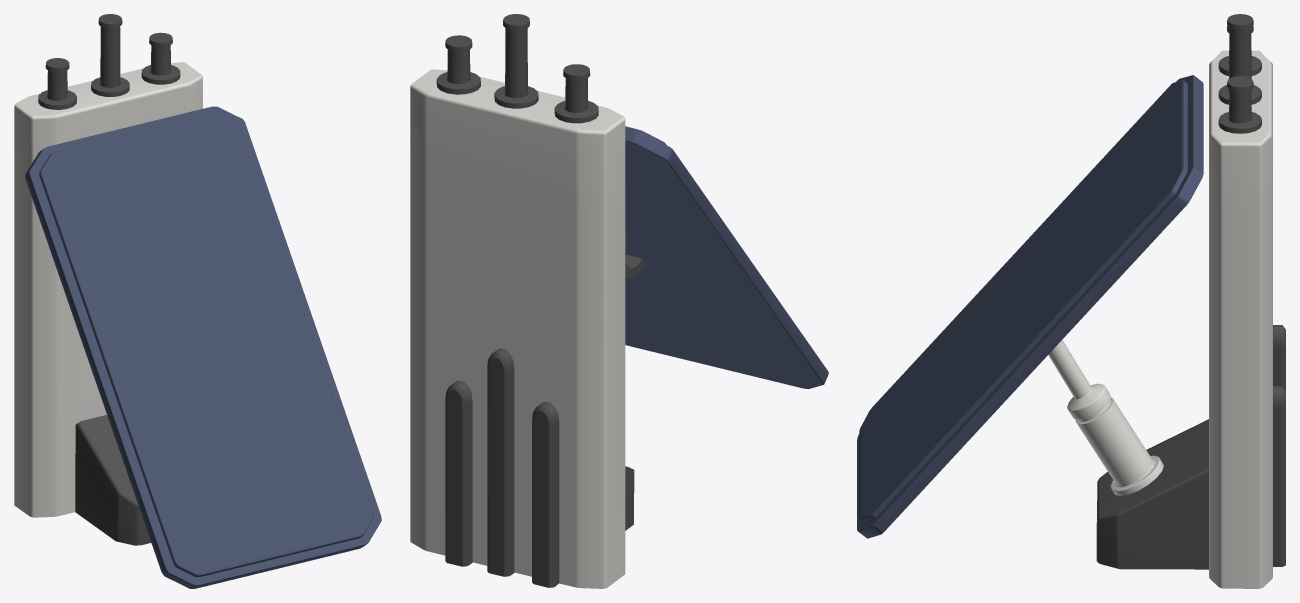
The model's file is panel-solar.glb.
3 renders of one model, left to right at view 1: azimuth 30°, elevation 25°; view 2: azimuth 150°, elevation 25°; view 3: azimuth 270°, elevation 25°, orthographic. The views are drawn at different scales.
Parts seen in each view (by area): view 1: Solar_panel; view 2: Solar_panel; view 3: Solar_panel.
Boxes of the visible parts, <box> form: Solar_panel: <box>14,14,381,588</box>; Solar_panel: <box>410,14,828,588</box>; Solar_panel: <box>857,14,1285,588</box>.
Size of the model in its own units: 1.39 by 2.9 by 2.15.
